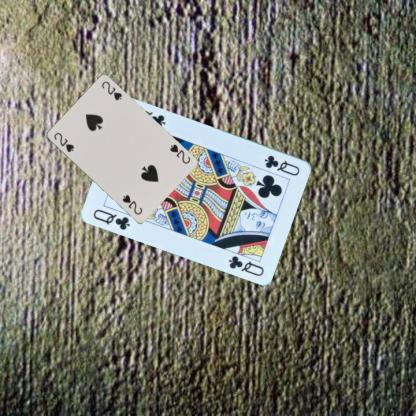2s: (167, 142, 191, 165), (52, 130, 75, 153)
Qc: (90, 206, 132, 231), (262, 152, 302, 177)
